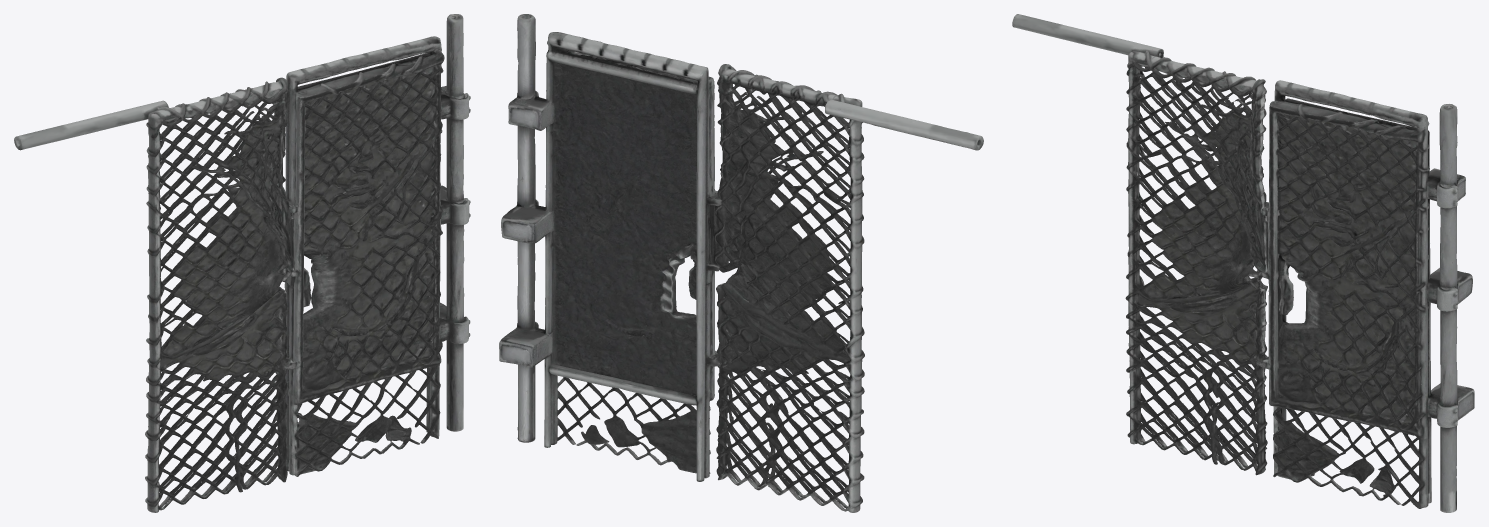
The model's file is damaged_fence_gate.glb.
The picture shows the model from 3 angles, left to right: view 1: azimuth 30°, elevation 25°; view 2: azimuth 150°, elevation 25°; view 3: azimuth 330°, elevation 25°; orthographic projection. The views are drawn at different scales.
Size of the model in its own units: 1.9 by 1.66 by 0.2801.
Materials: 1 (1 with a texture image).
